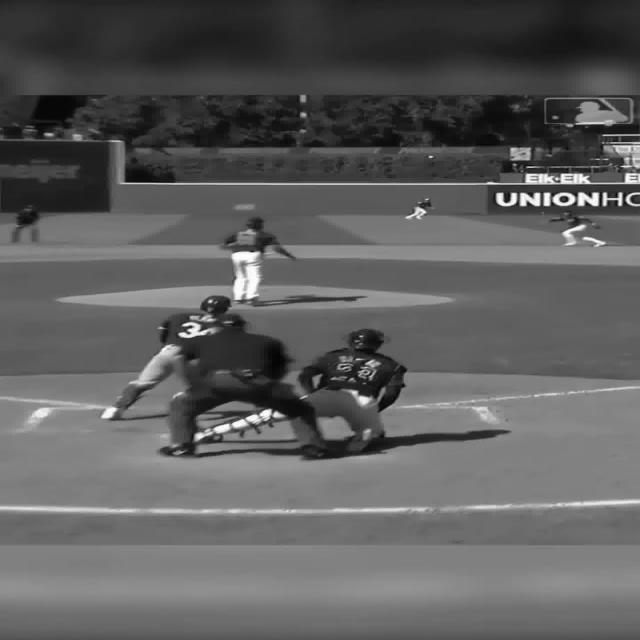baseball: (428, 155, 434, 159)
shoe: (159, 443, 195, 456), (192, 429, 222, 444), (344, 430, 384, 441), (344, 438, 371, 453), (299, 444, 325, 458), (100, 406, 124, 420), (592, 242, 606, 247), (562, 242, 576, 246)
